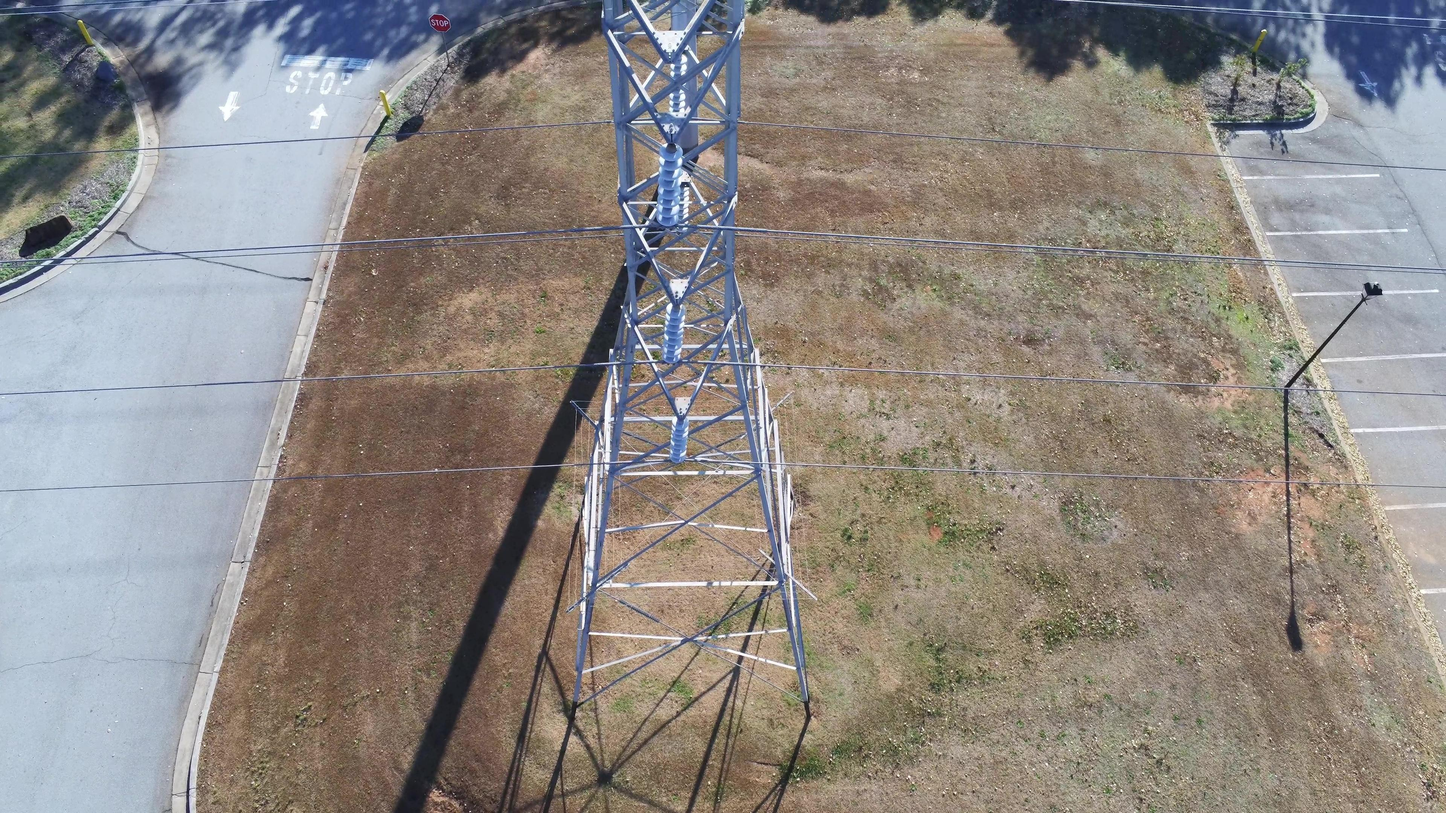power_tower: (570, 0, 810, 703)
